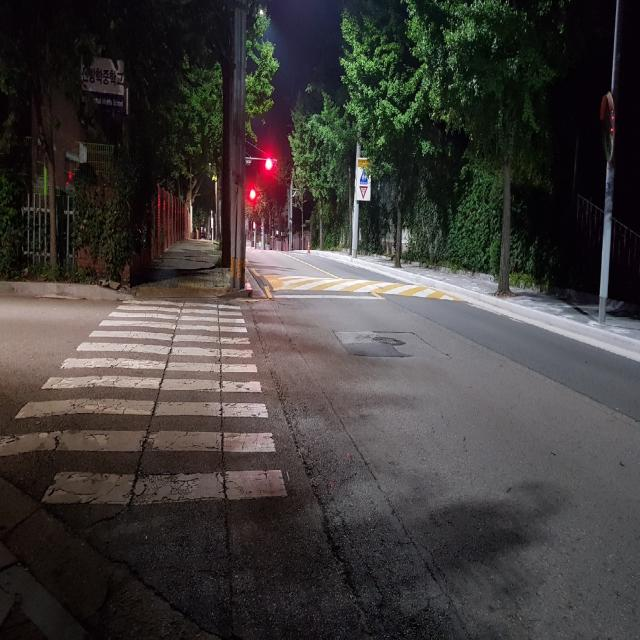횡단보도: (0, 300, 286, 504)
